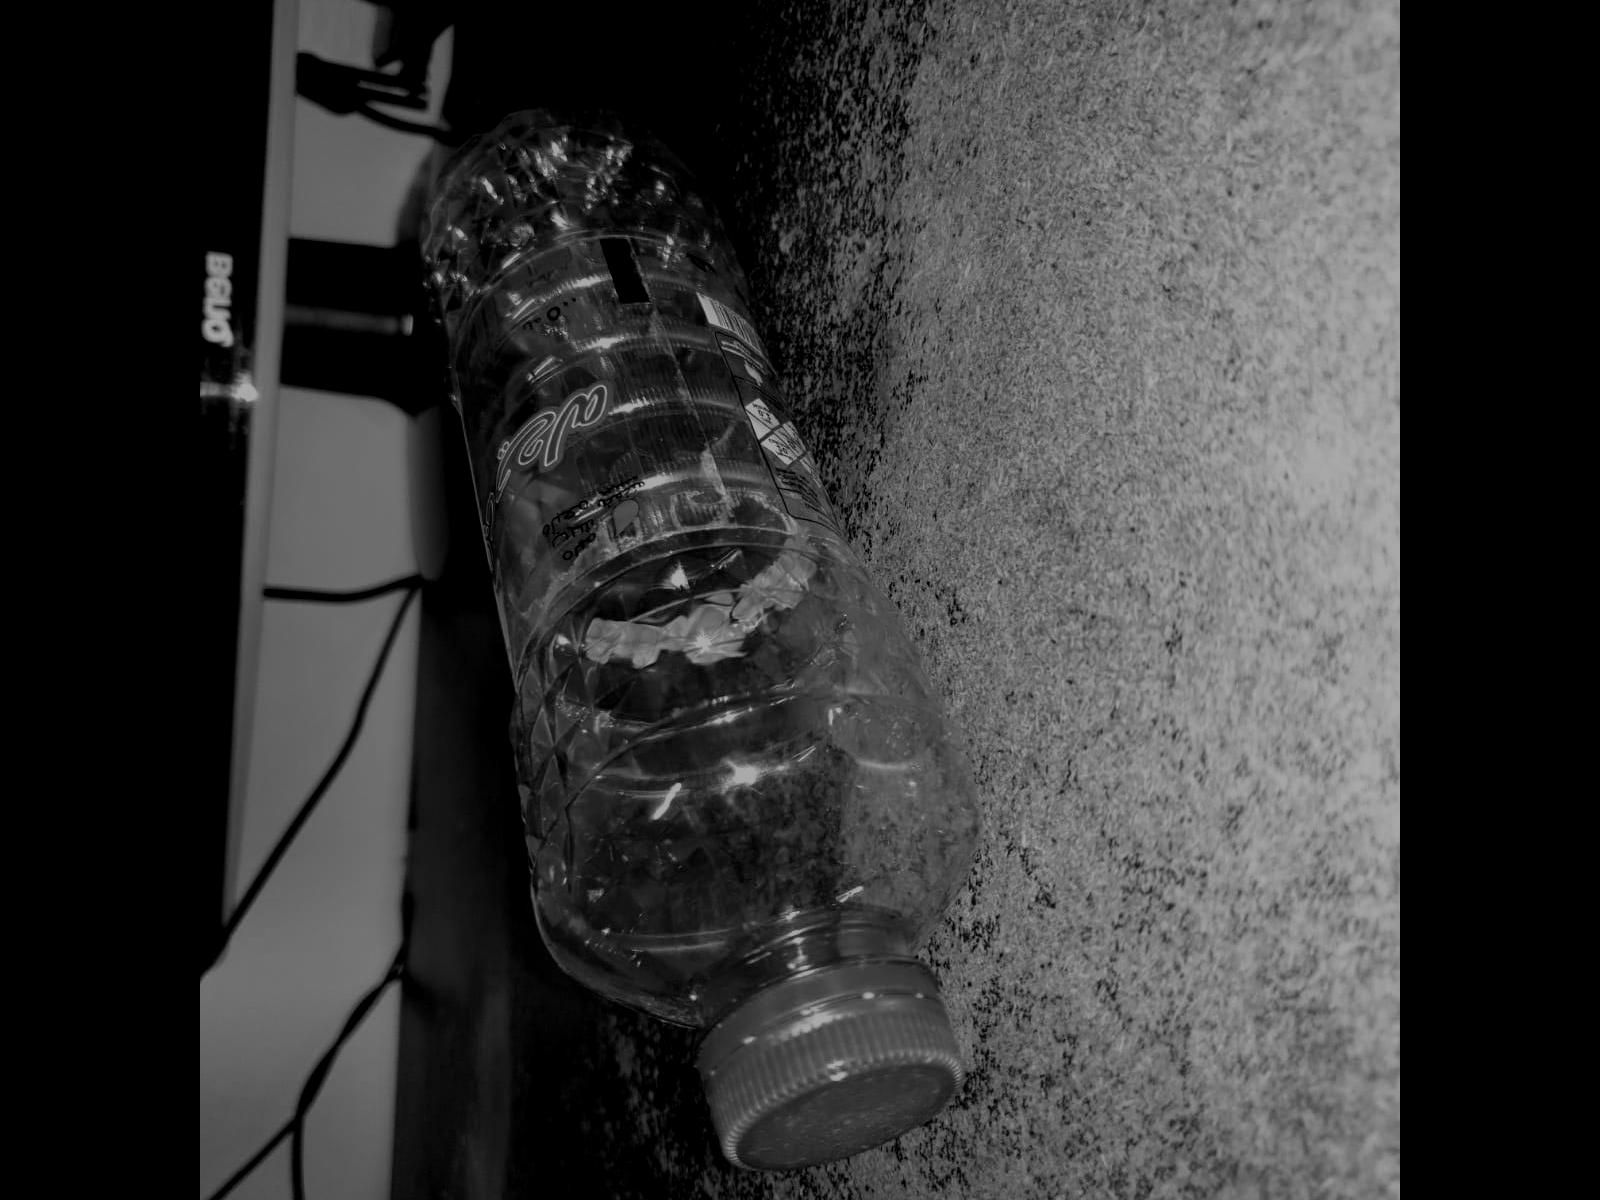bottle: (403, 81, 992, 1173)
